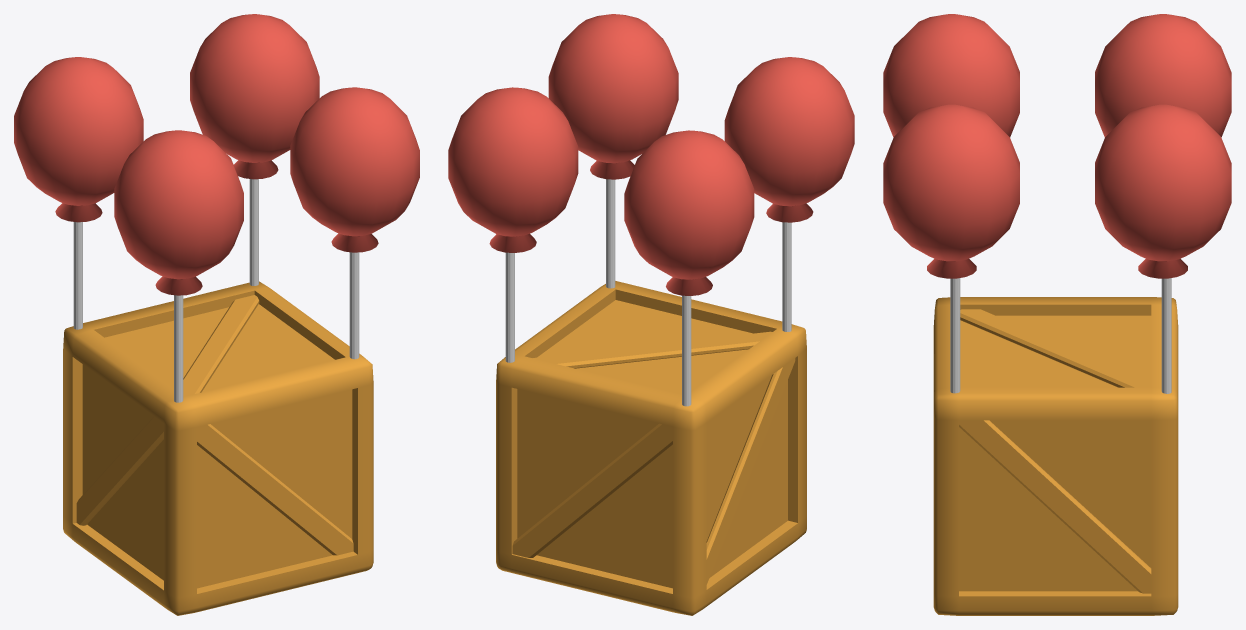
Rendered from airdrop.fbx.
3 views of the same model, side by side, from view 1: azimuth 30°, elevation 25°; view 2: azimuth 150°, elevation 25°; view 3: azimuth 270°, elevation 25° (orthographic). The views are drawn at different scales.
Visible parts, largest first — view 1: ballons.001, ballons.002; view 2: ballons.001, ballons.002; view 3: ballons.001, ballons.002.
Part boxes in pixels (x1,y1,x2,y2): ballons.001: [63, 281, 373, 615]; ballons.002: [14, 14, 419, 402]; ballons.001: [496, 281, 806, 615]; ballons.002: [448, 14, 854, 406]; ballons.001: [933, 297, 1178, 615]; ballons.002: [883, 14, 1231, 393].
Size of the model in its own units: 1354 by 2161 by 1354.
